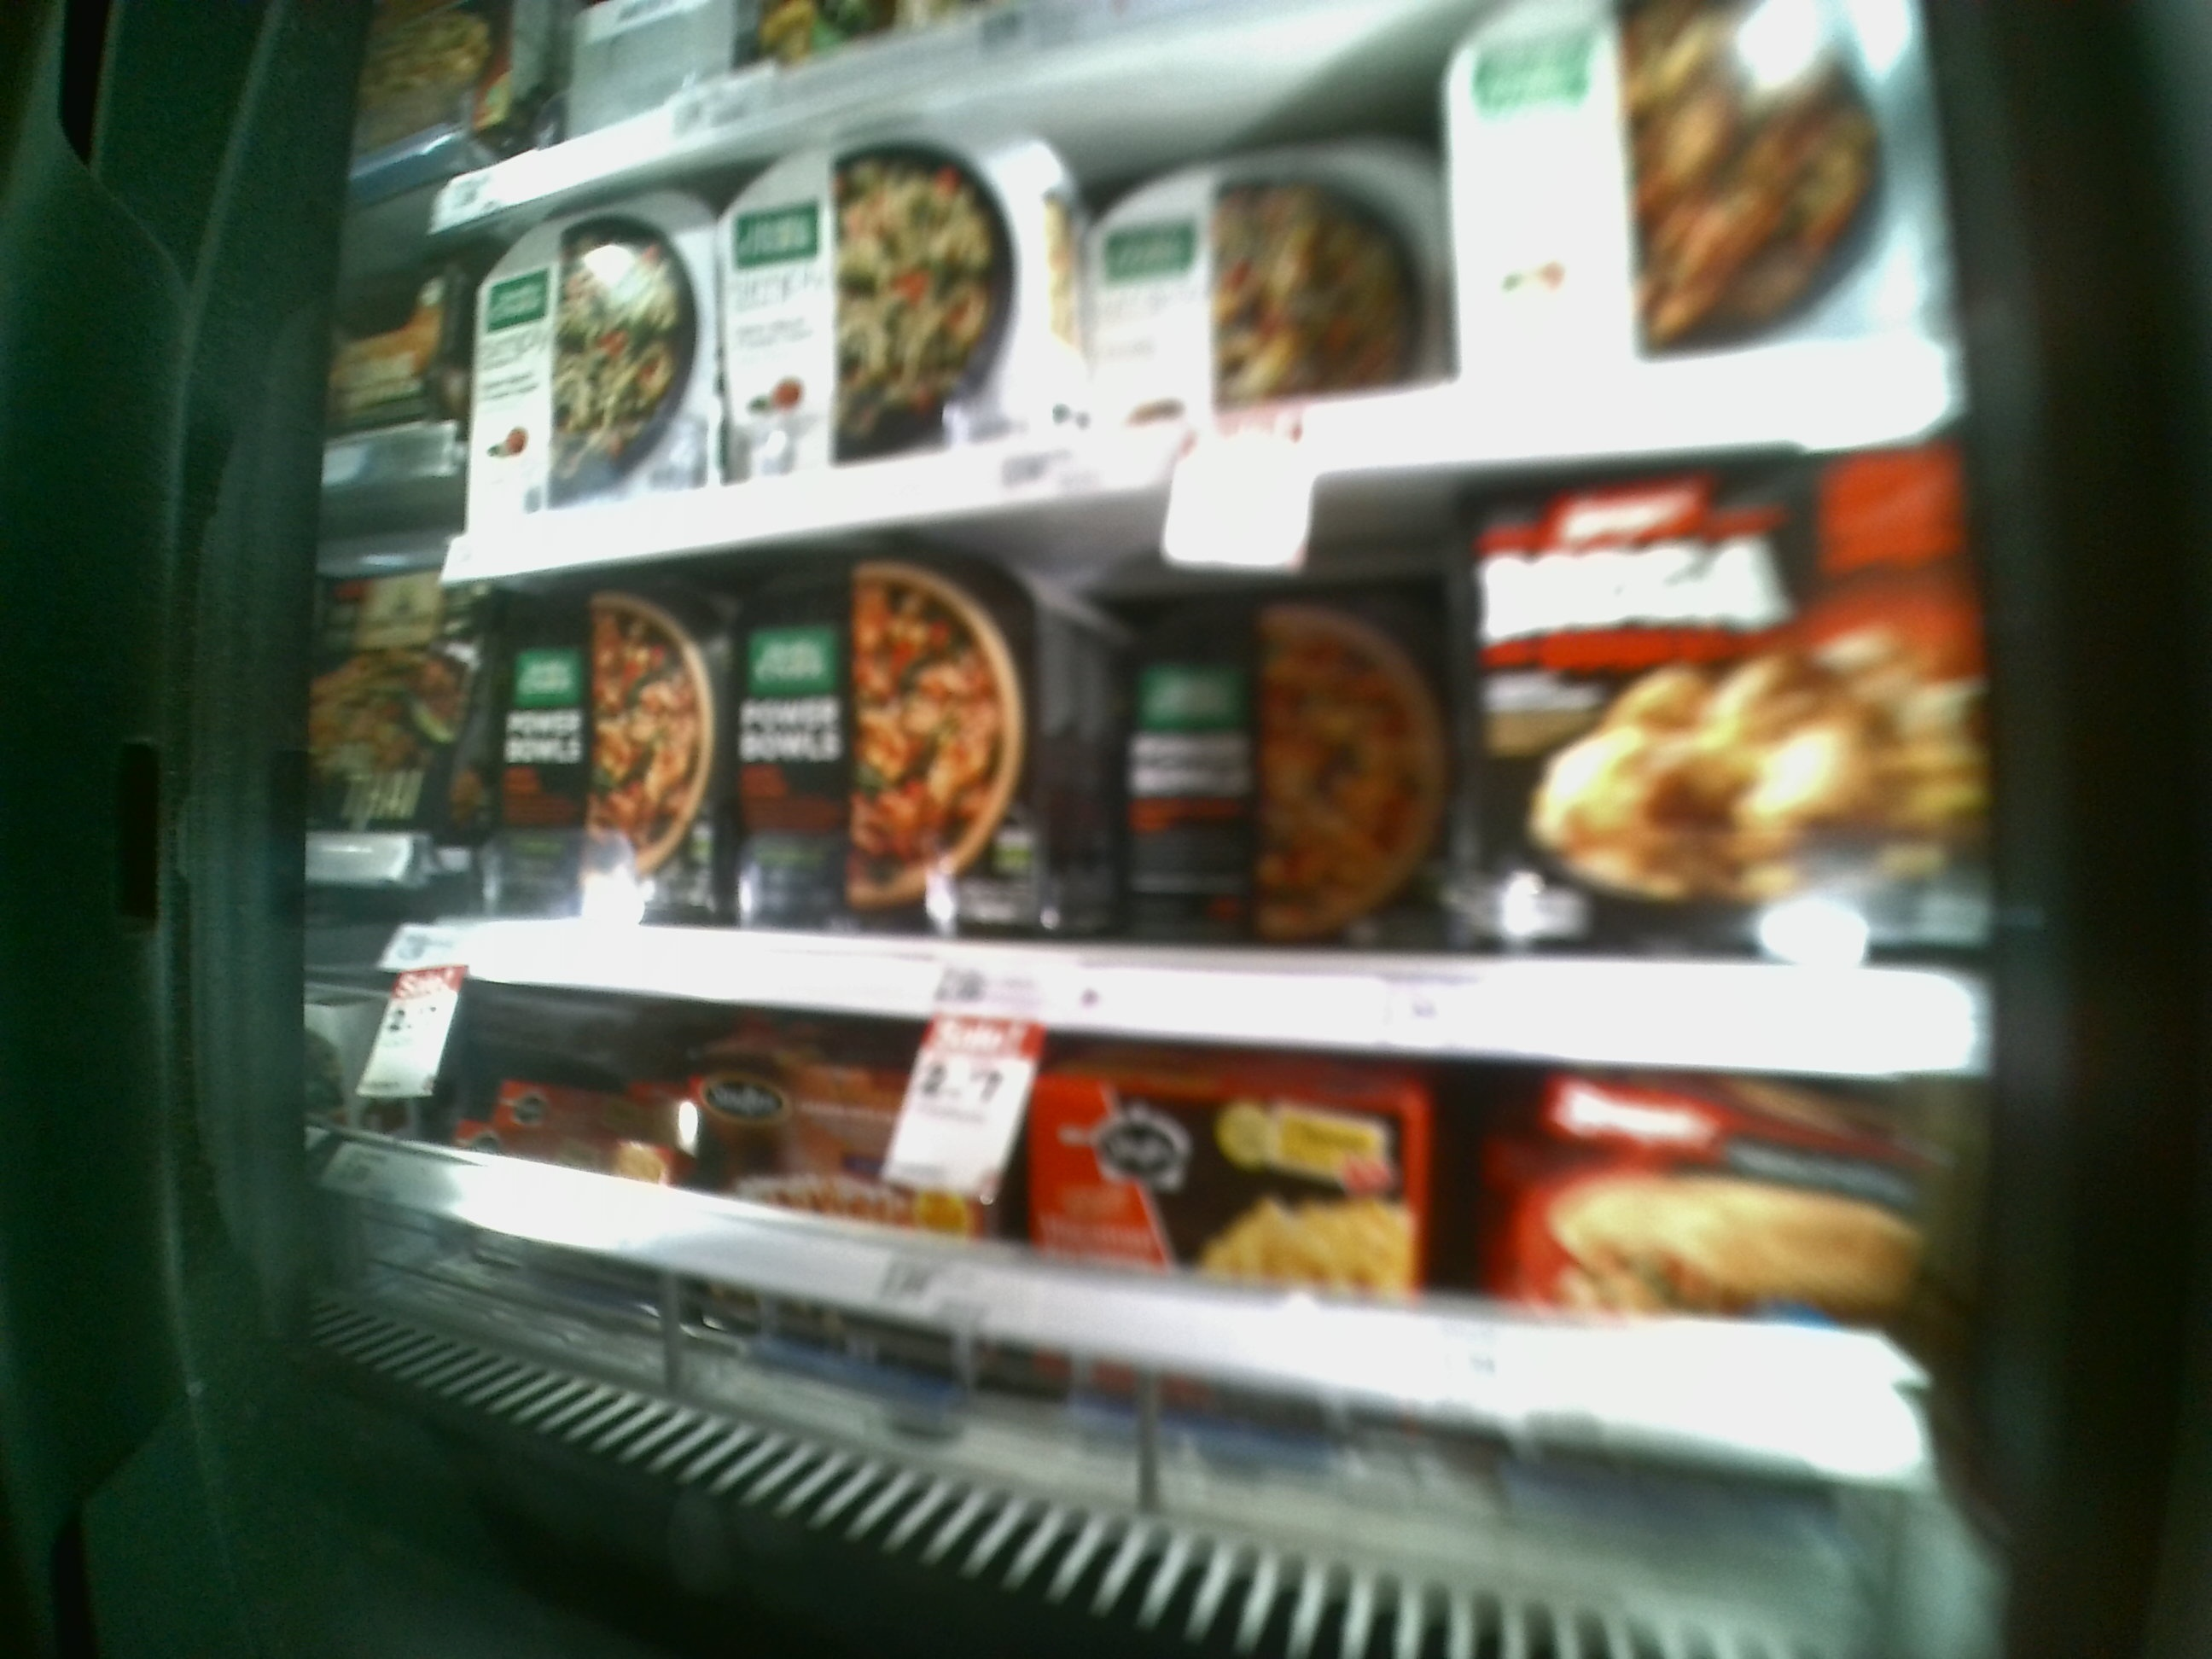pizza: (1467, 472, 1977, 950), (1447, 3, 1911, 380), (723, 103, 1045, 481), (1078, 103, 1430, 446), (1129, 582, 1432, 932), (738, 572, 1026, 915), (502, 577, 732, 920), (467, 207, 712, 518)
